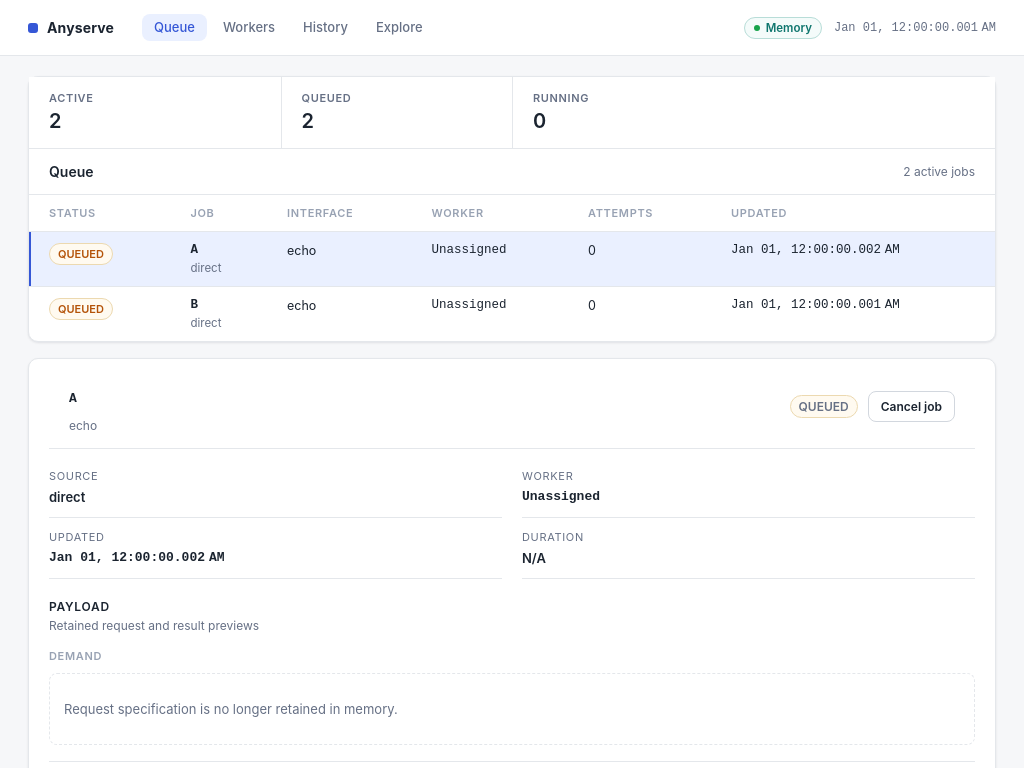
Test: hides the previous detail and cancel action while loading a new selection
Expected: the button "Cancel job" is shown, 868,391 -> 955,422
Click the text "B".
click(194, 305)  # box 190,298 -> 198,312
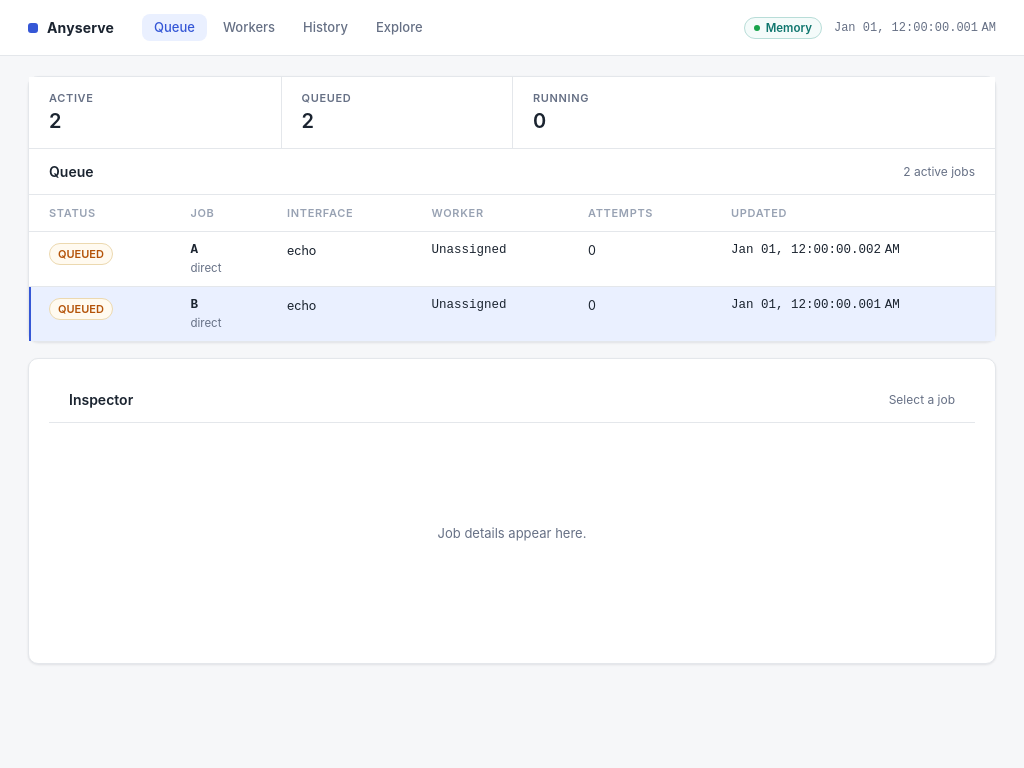
Now the button "Cancel job" is gone
